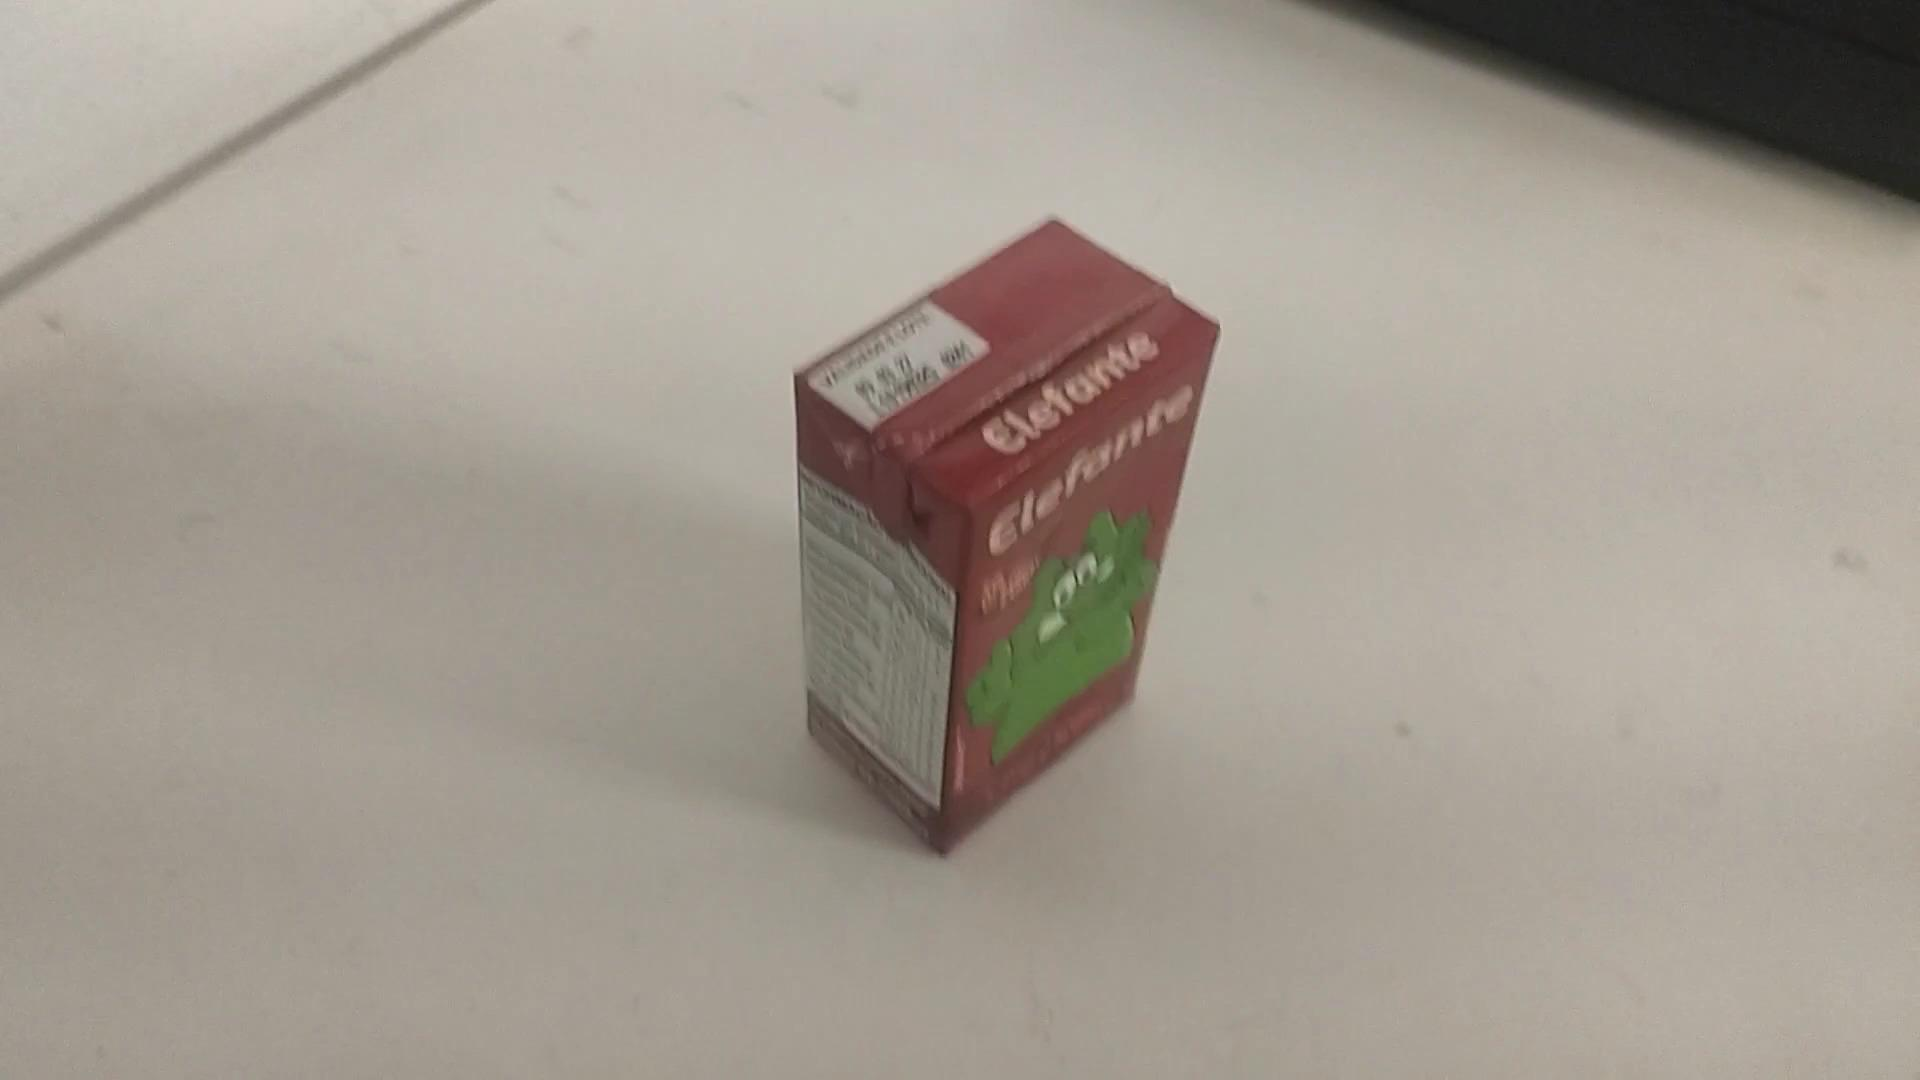tomate: (782, 200, 1220, 855)
